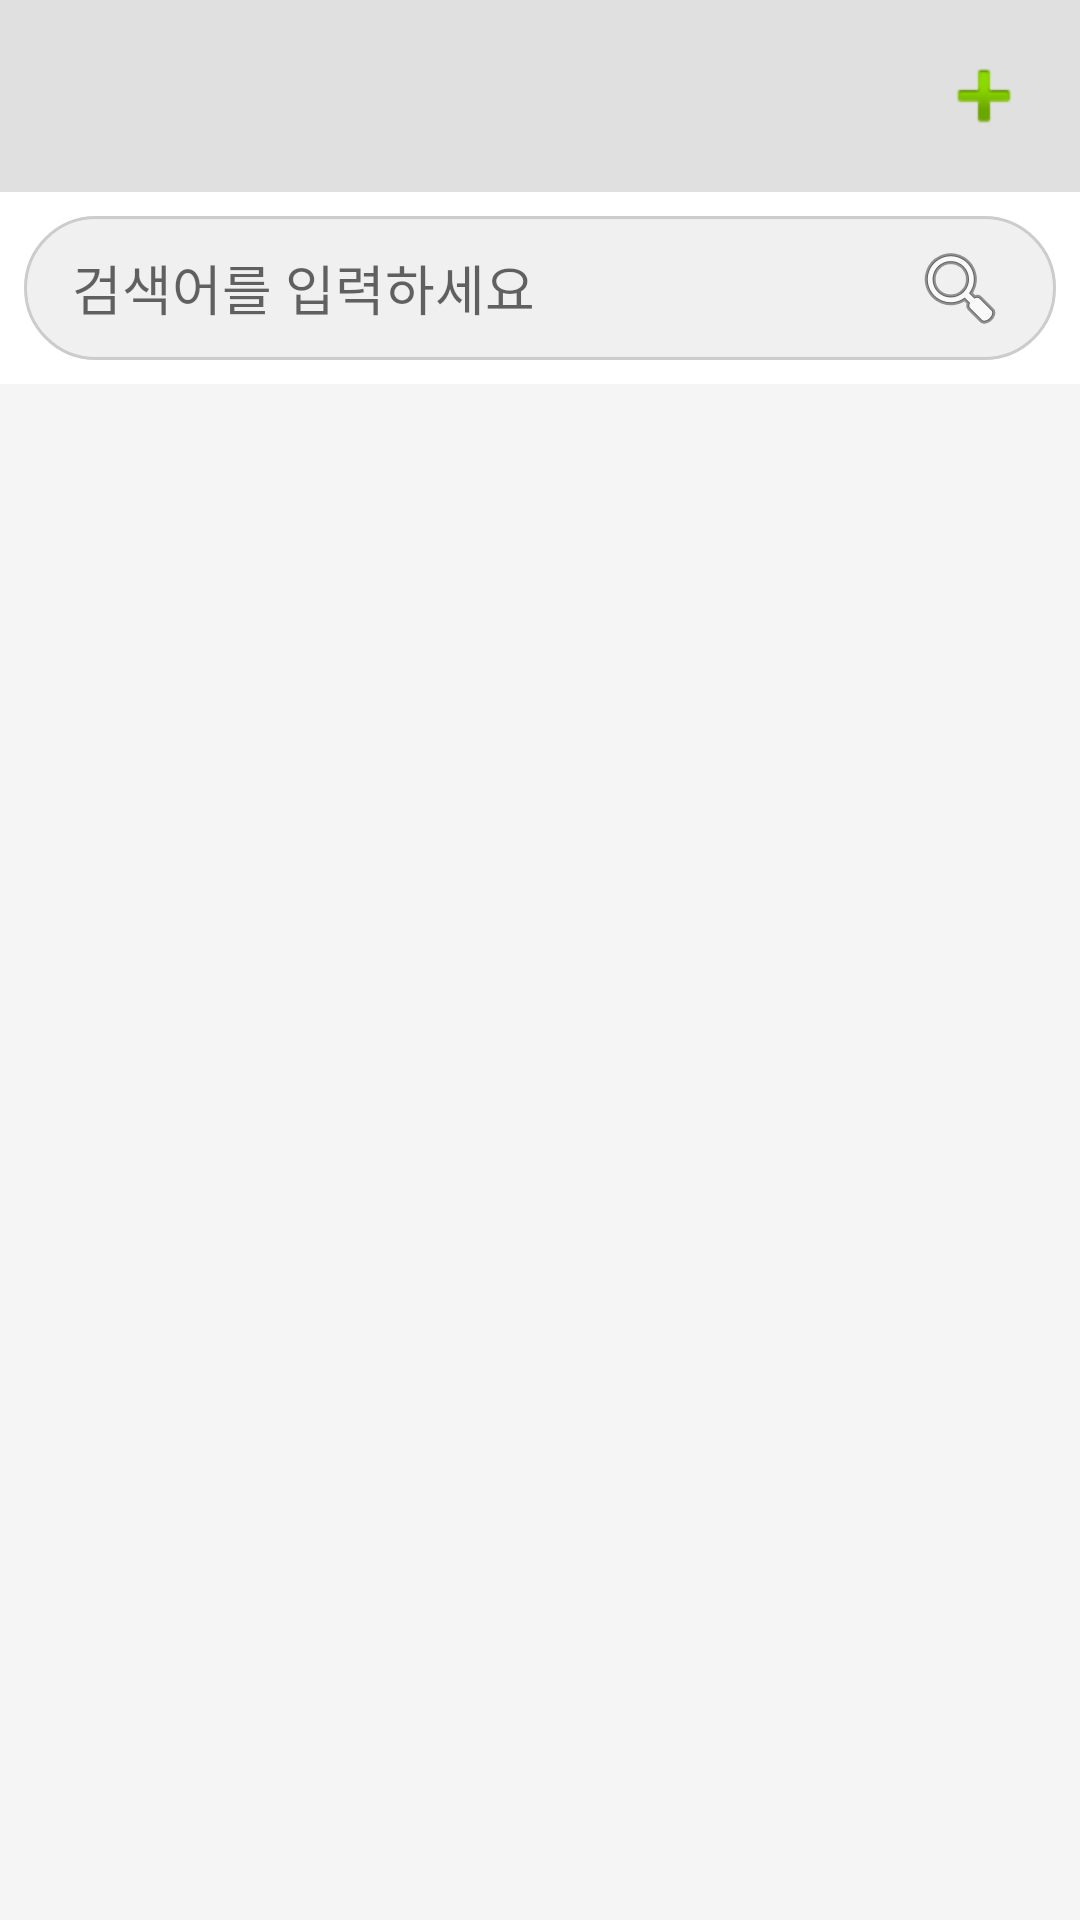

Screen size 1080*1920. Icon name, then its box in pixels as [x1,y1,x2,y2]:
채팅방 만들기: [957,69,1011,123]
